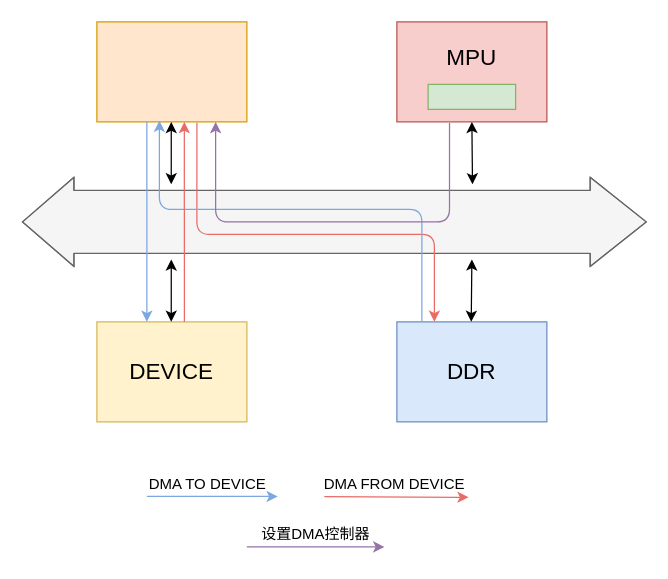
Image size: 668x579. Some labels were removed from this diagram. Here are the shapes that lost their labels. From the top down, the centre of each, then its label:
the point at 171,71: DMAC
the point at 471,96: CACHE
